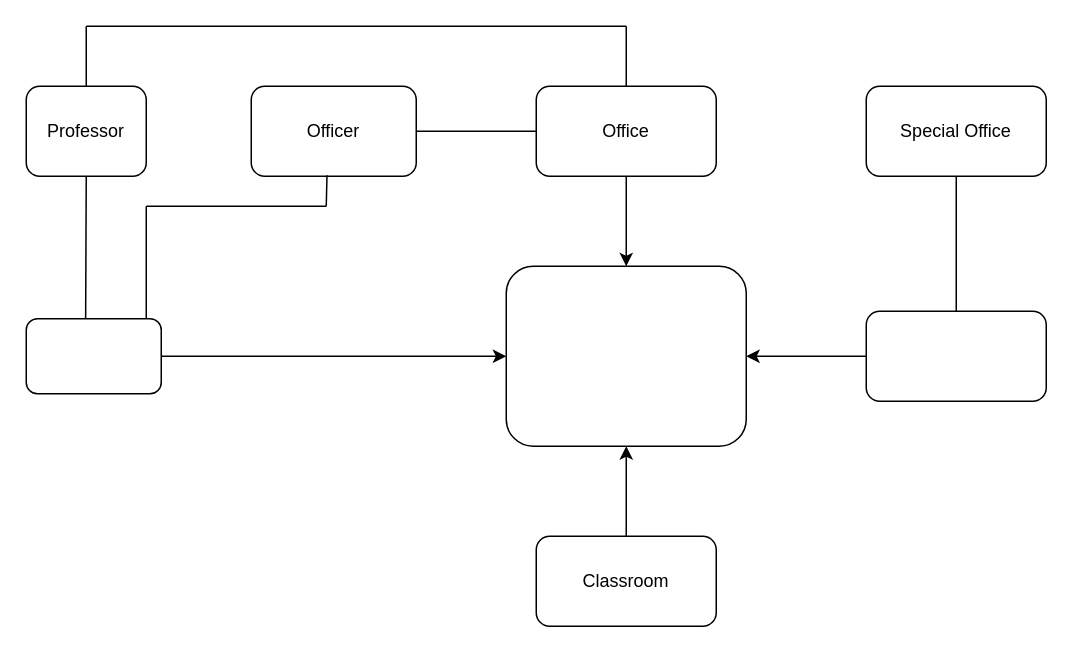
The diagram is 1073 pixels wide and 653 high, and some of its shapes have lost their labels. Each missing label, with the centre of its shape:
Department: pixel 955 355
Staff: pixel 93 355
University: pixel 625 355
